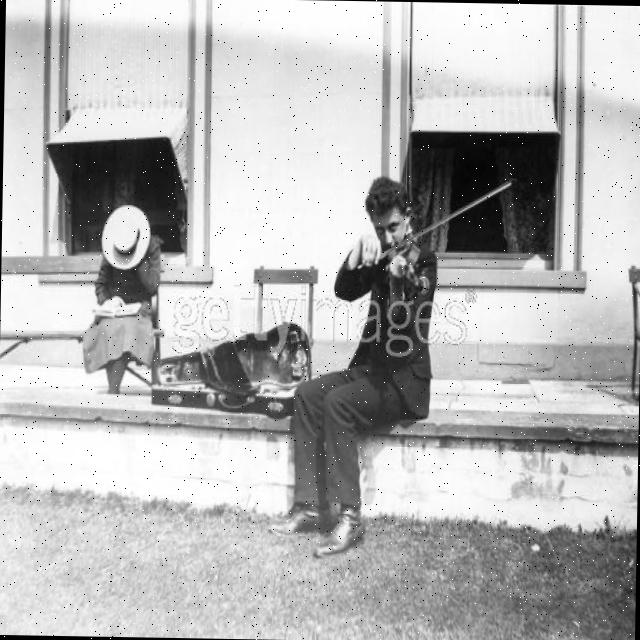violin: (388, 232, 426, 295)
